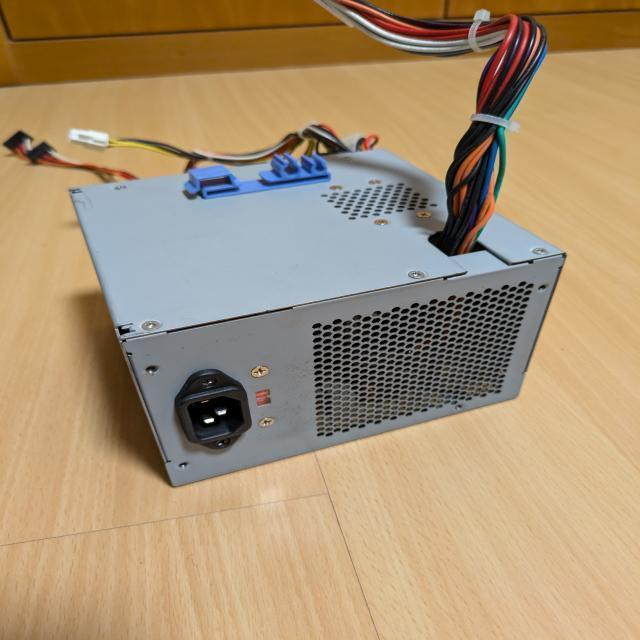PSU: (67, 147, 568, 488)
